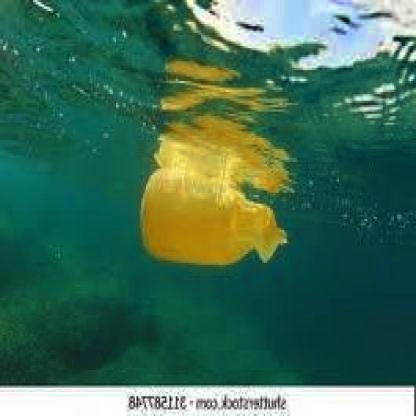plastic: (134, 160, 294, 274)
